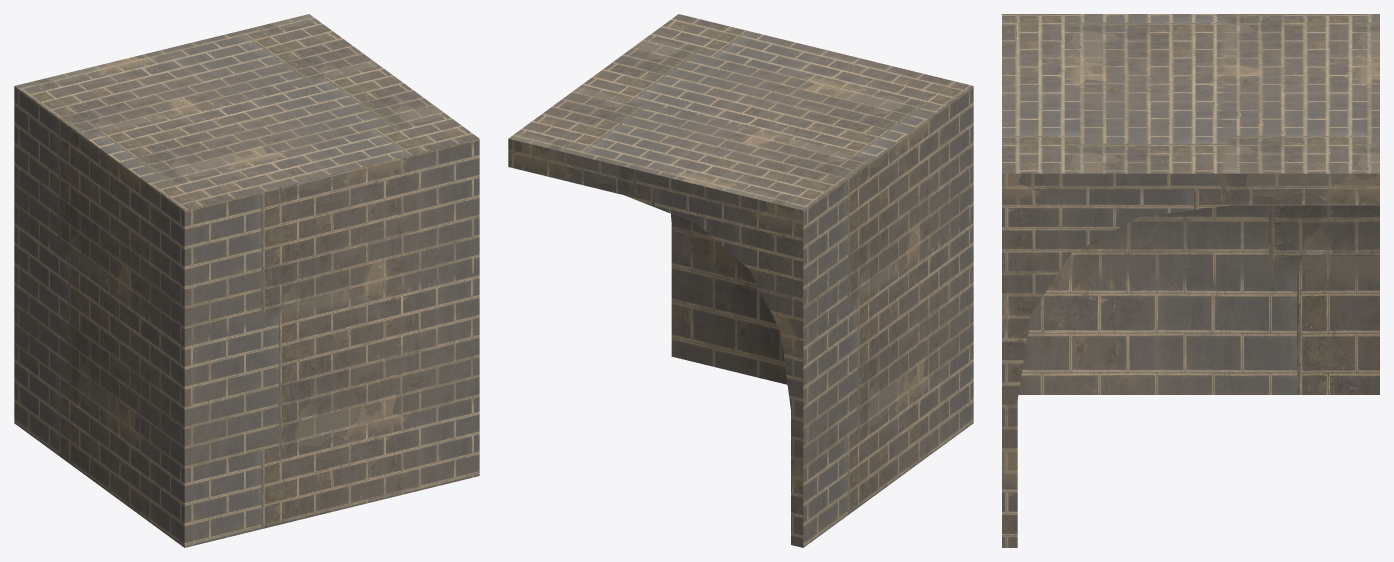
Rendered from Wall_dome_ecke001.fbx.
3 renders of one model, left to right at view 1: azimuth 30°, elevation 25°; view 2: azimuth 150°, elevation 25°; view 3: azimuth 270°, elevation 25°, orthographic. The views are drawn at different scales.
Visible parts, largest first — view 1: Wall_dome_ecke001; view 2: Wall_dome_ecke001; view 3: Wall_dome_ecke001.
Boxes of the visible parts, x1,y1,x2,y2 form: Wall_dome_ecke001: [14, 14, 479, 547]; Wall_dome_ecke001: [508, 14, 973, 547]; Wall_dome_ecke001: [1002, 14, 1379, 547].
Bounding box in the file's own units: 600 × 656 × 600.
